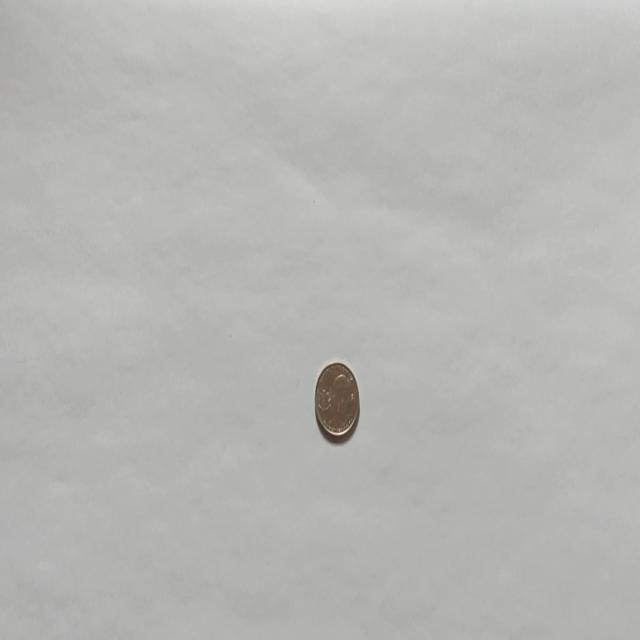seribu rupiah koin: (314, 359, 361, 439)
